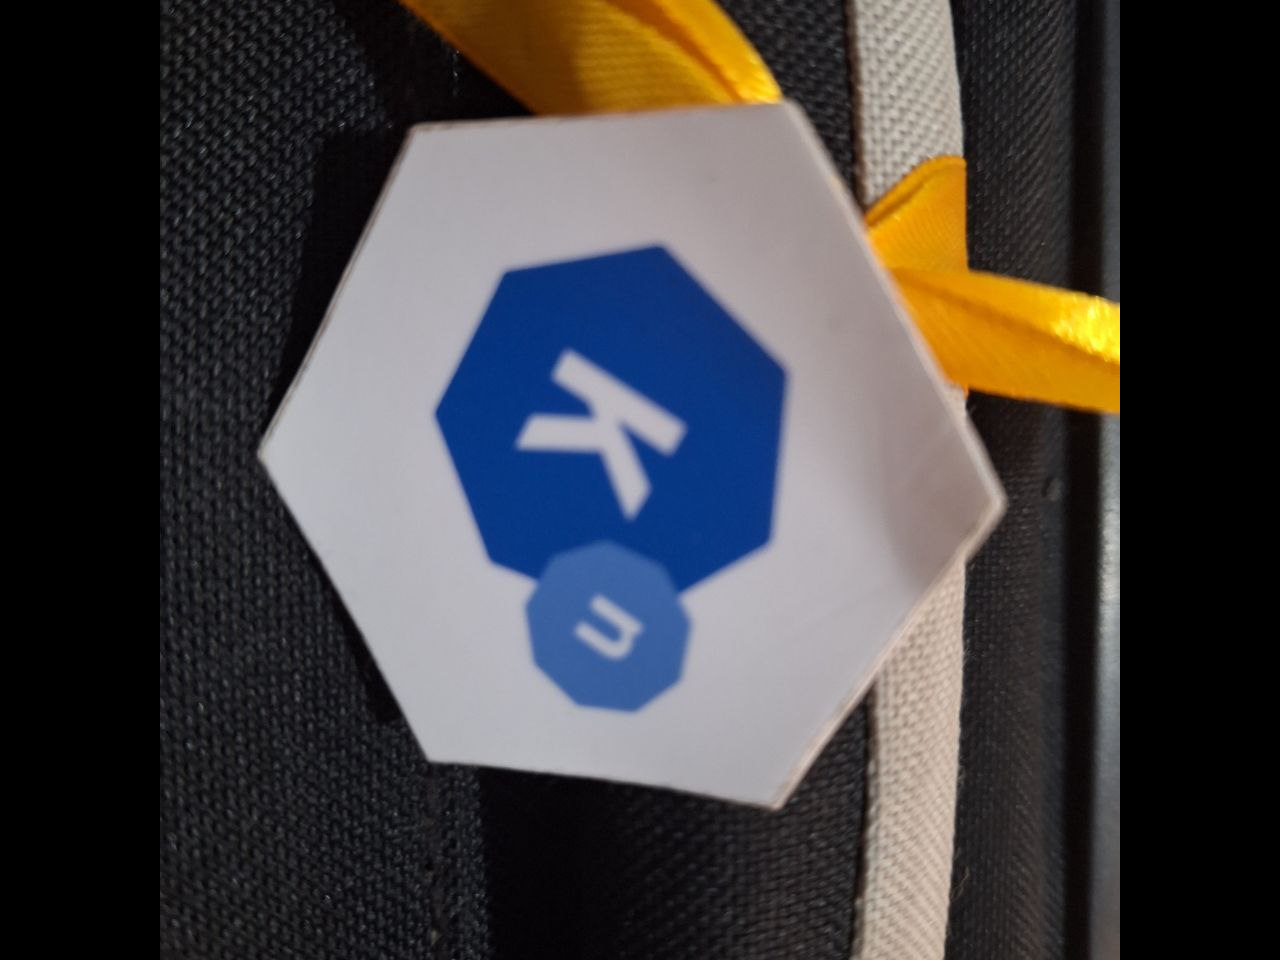knative: (429, 242, 797, 713)
